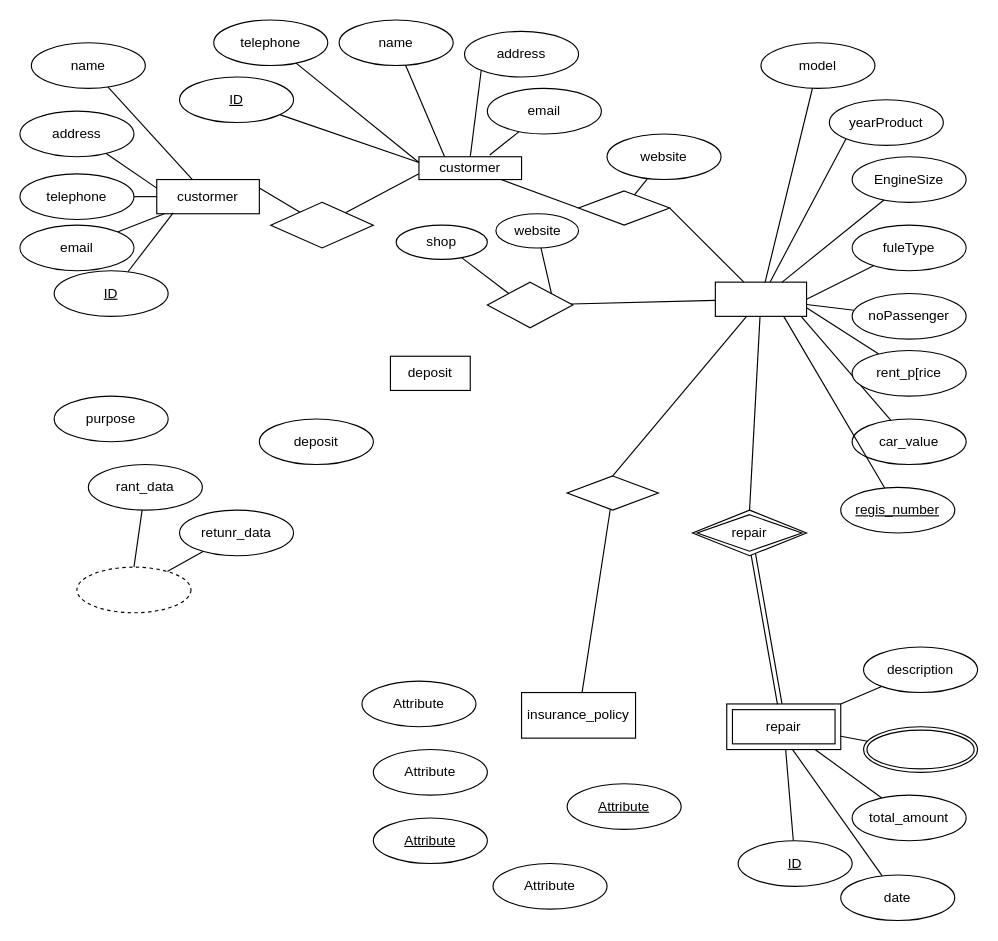
This 998x941 diagram has some shape labels left out. Here are the shapes that lost their labels. From the top down, the centre of each, then its label:
At point (321, 224): "register".
At point (623, 207): "view".
At point (529, 304): "rent".
At point (760, 298): "car".
At point (612, 492): "insurance".
At point (133, 589): "duration".
At point (920, 749): "parts".
